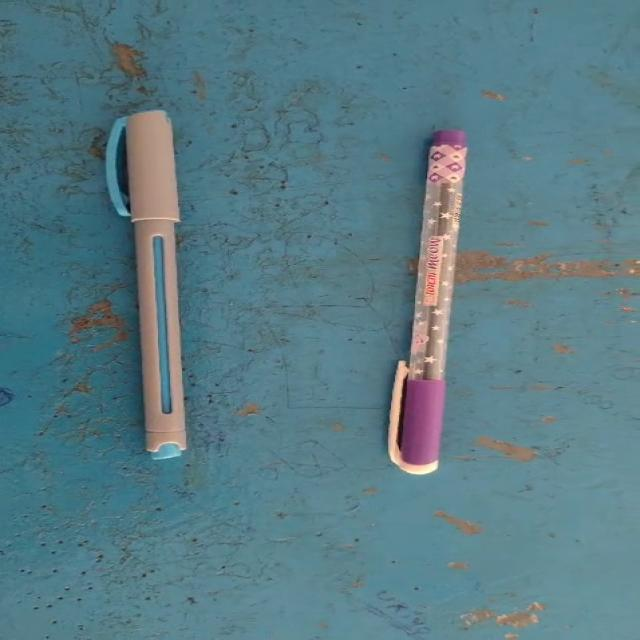pen: (29, 53, 251, 503), (356, 105, 514, 503)
